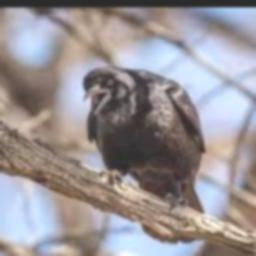Crow: (81, 66, 207, 244)
